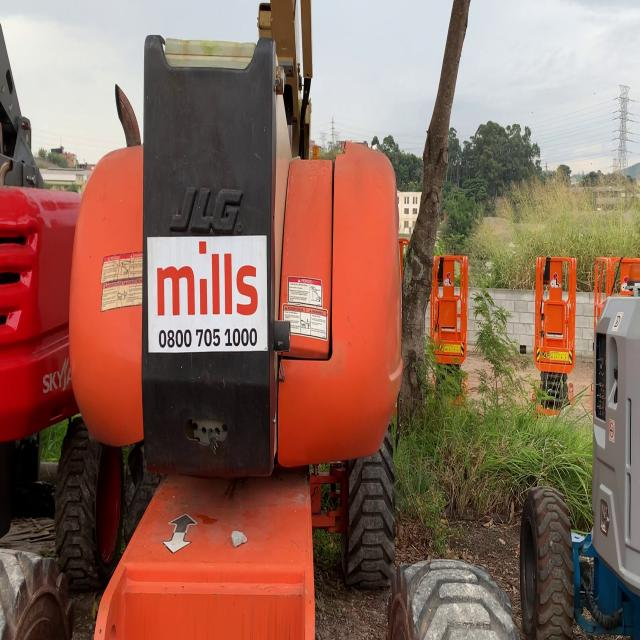Adesivos: (146, 230, 270, 364)
